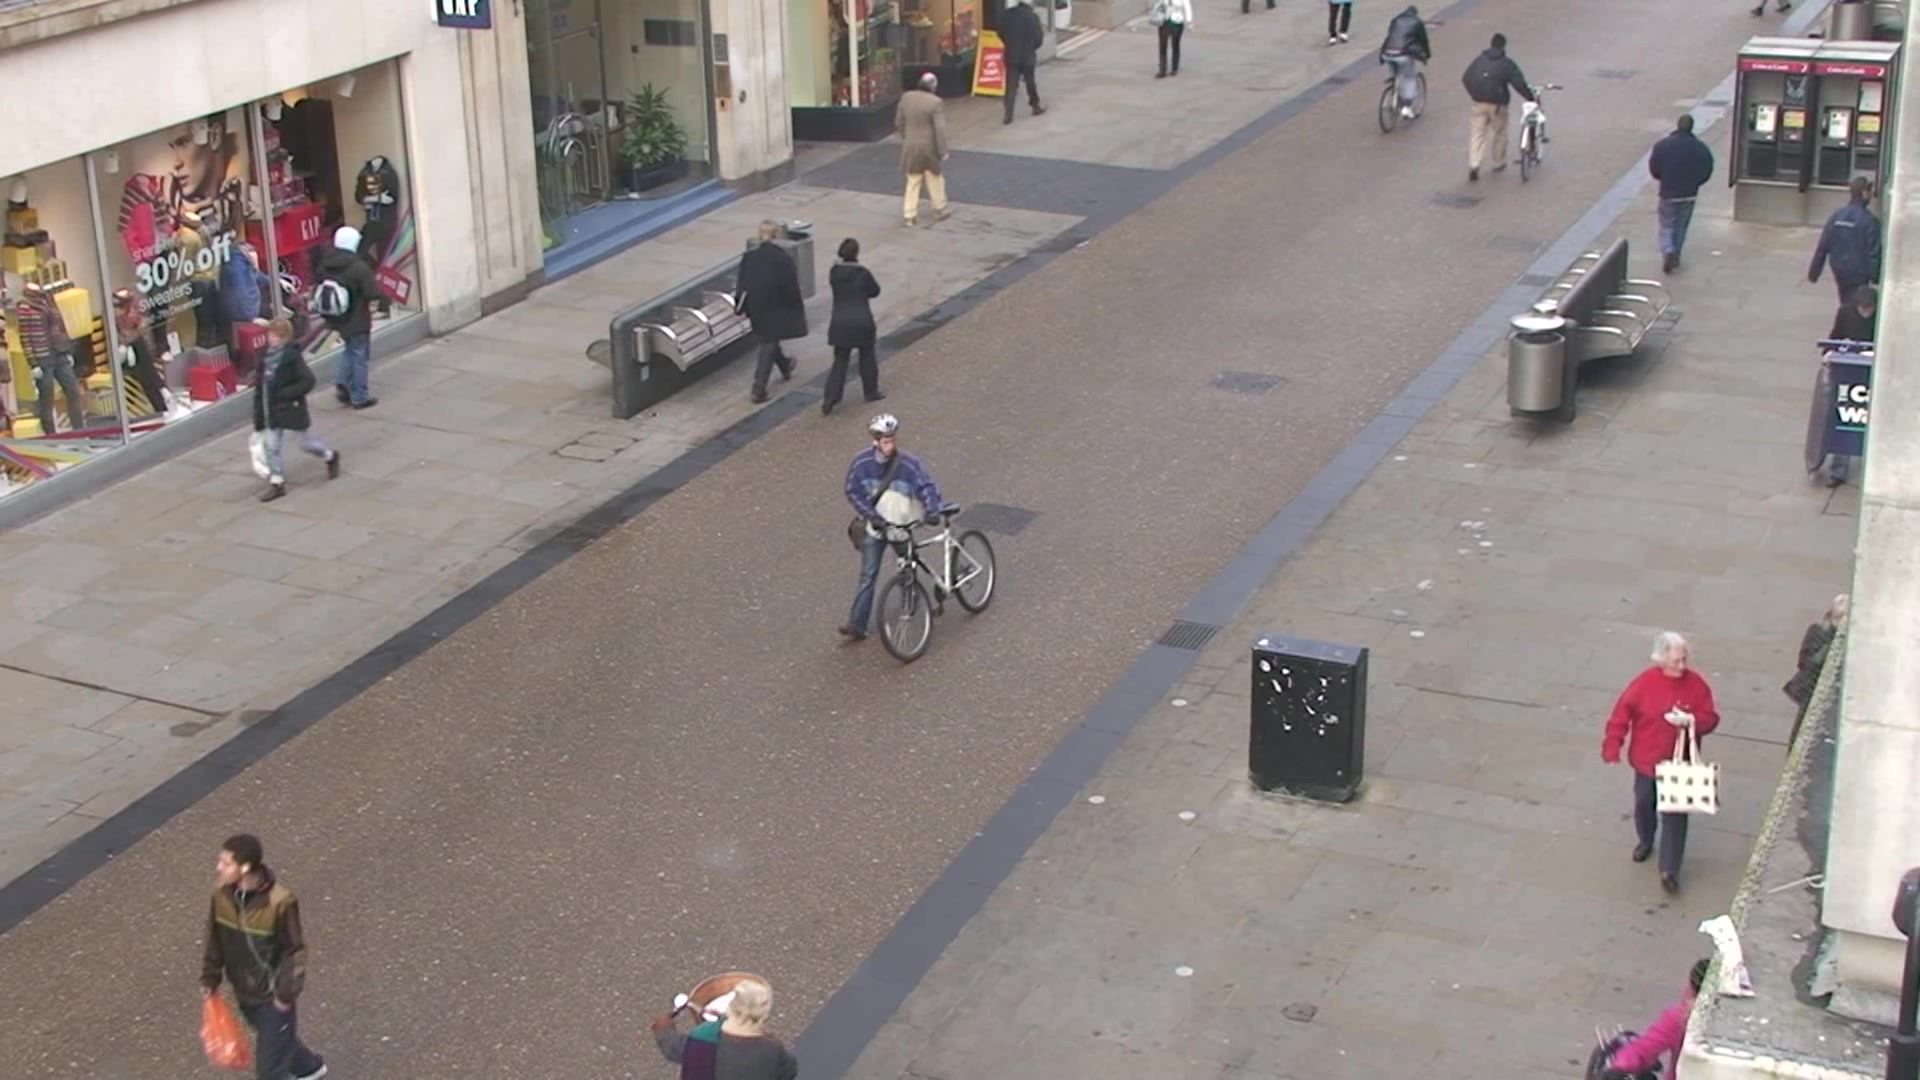person: (198, 831, 328, 1080), (1600, 630, 1720, 899), (837, 412, 941, 645), (248, 315, 339, 502), (736, 220, 810, 402), (823, 235, 891, 420), (318, 225, 383, 411), (1461, 33, 1542, 180), (1648, 112, 1714, 277), (892, 70, 951, 226), (1378, 3, 1433, 126)
